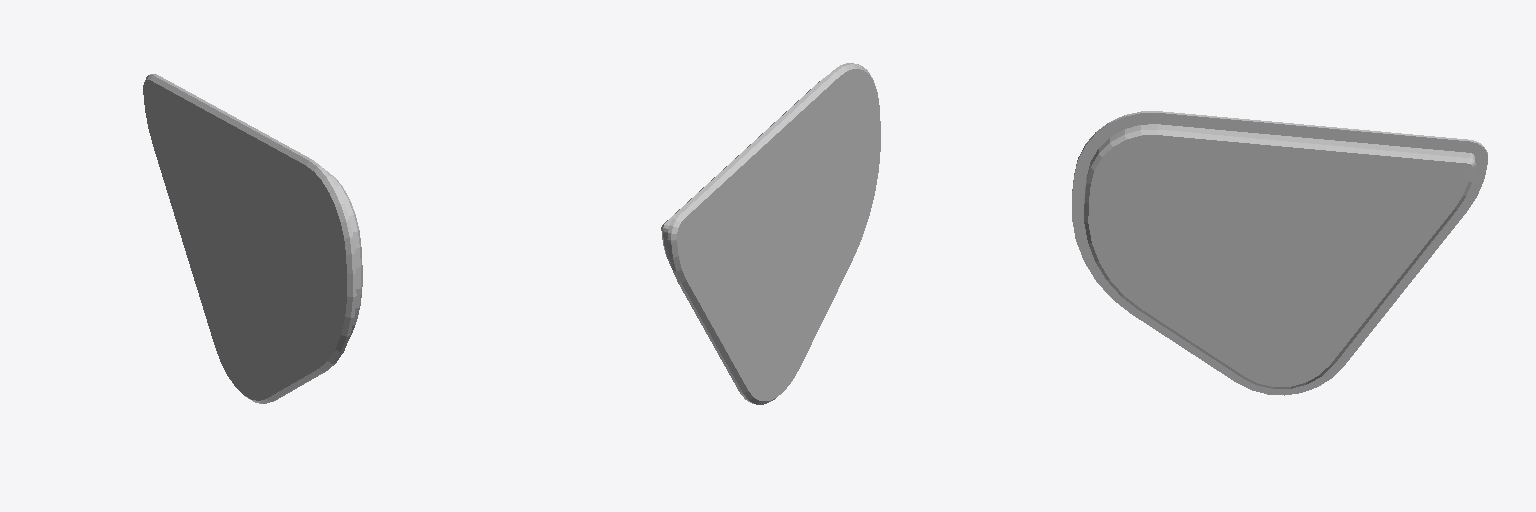
The model's file is converted_r3_finger_cover_small_right_808080ff.obj.
3 views of the same model, side by side, from view 1: azimuth 30°, elevation 25°; view 2: azimuth 150°, elevation 25°; view 3: azimuth 270°, elevation 25° (orthographic).
Size of the model in its own units: 0.003 by 0.0373 by 0.0498.